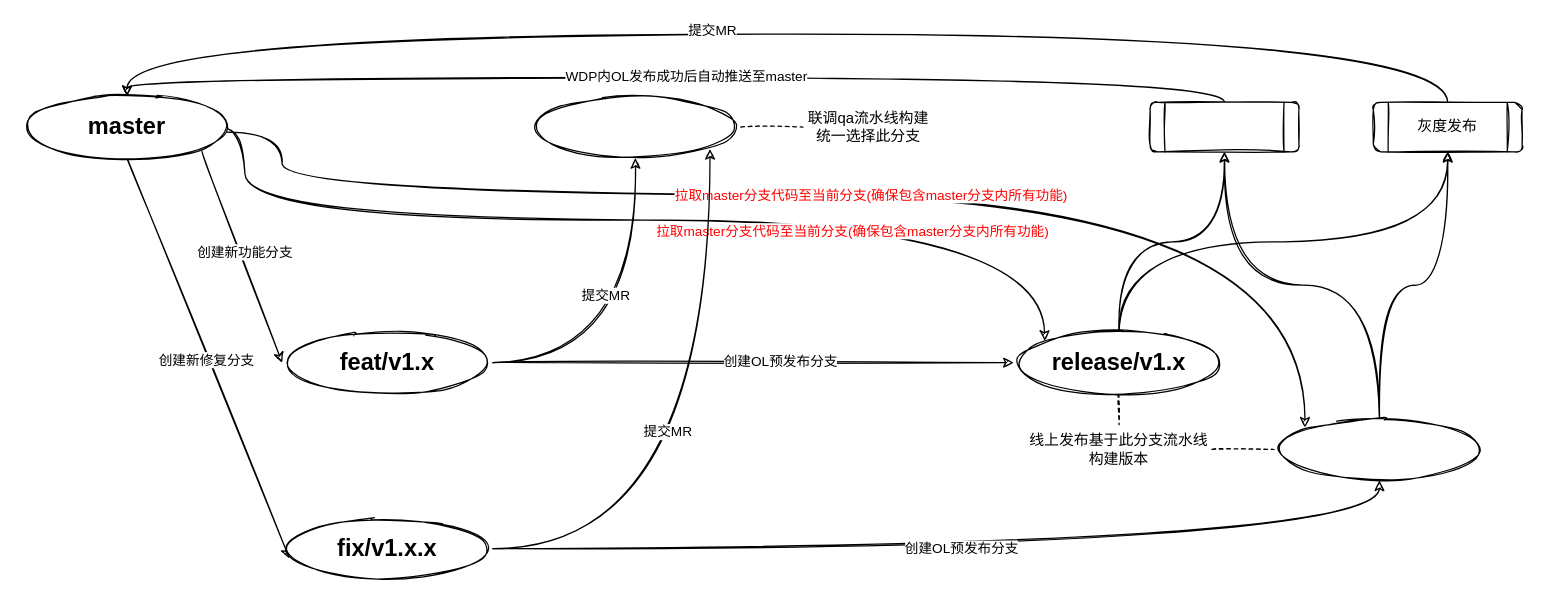
This 1544x601 diagram has some shape labels left out. The shapes that lost their labels are listed below. From the top down, each one's box as (x1, y1, x2, y2) in pixels, then its label:
(529, 95, 741, 158): qa/default
(1149, 101, 1299, 152): 正常发布
(1273, 417, 1485, 480): release/v1.x.x
